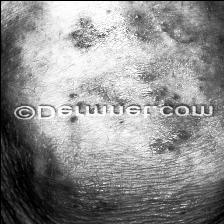Non-Cancerous Skin Condition: (17, 121, 208, 220), (58, 0, 224, 100)
